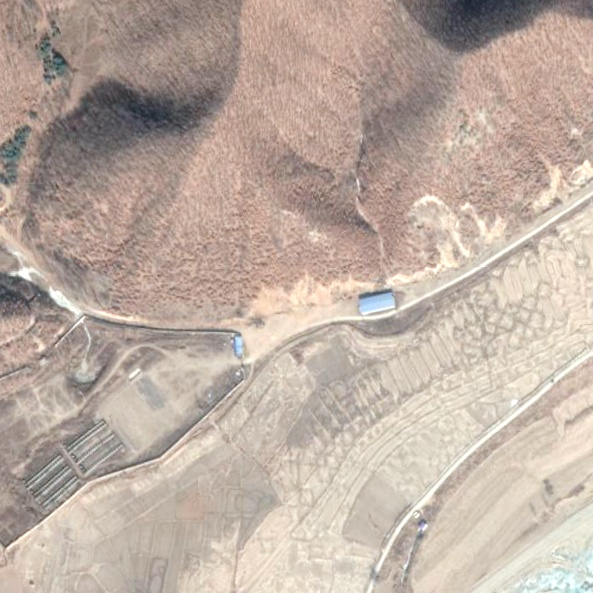slope: (222, 270, 381, 358), (384, 192, 512, 293), (23, 209, 112, 307), (528, 151, 592, 214)
